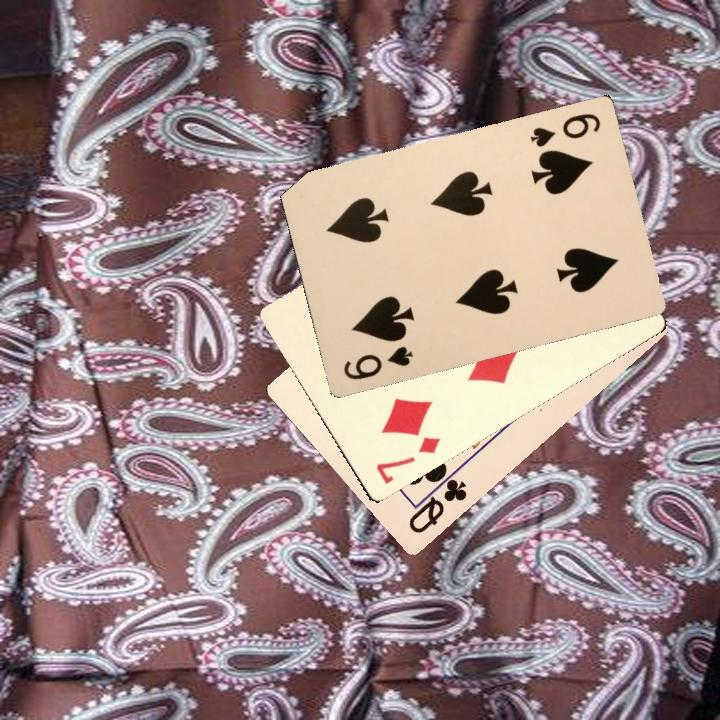6s: (339, 342, 416, 383), (526, 109, 603, 150)
7d: (372, 432, 443, 487)
Qc: (404, 466, 470, 536)
